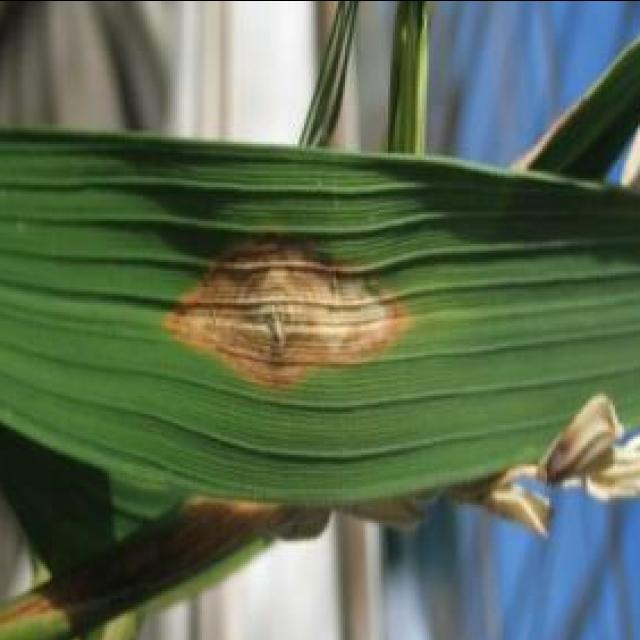Leaf_Blast: (124, 213, 424, 427)
